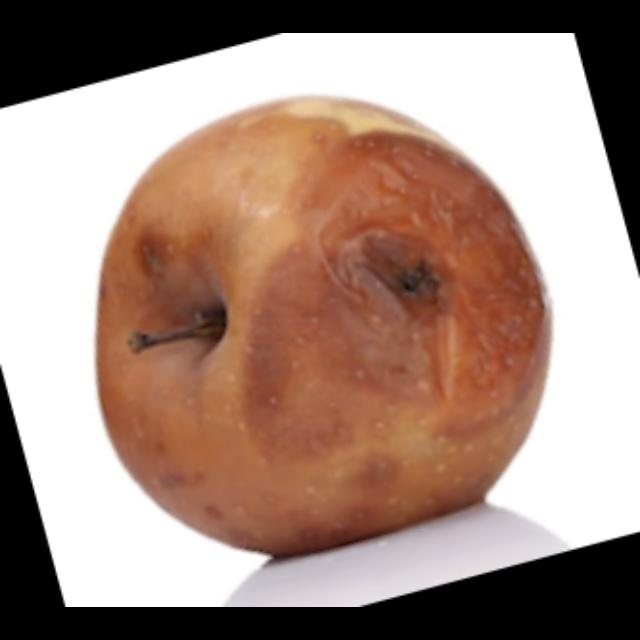Apel Tidak Segar: (94, 86, 555, 568)
